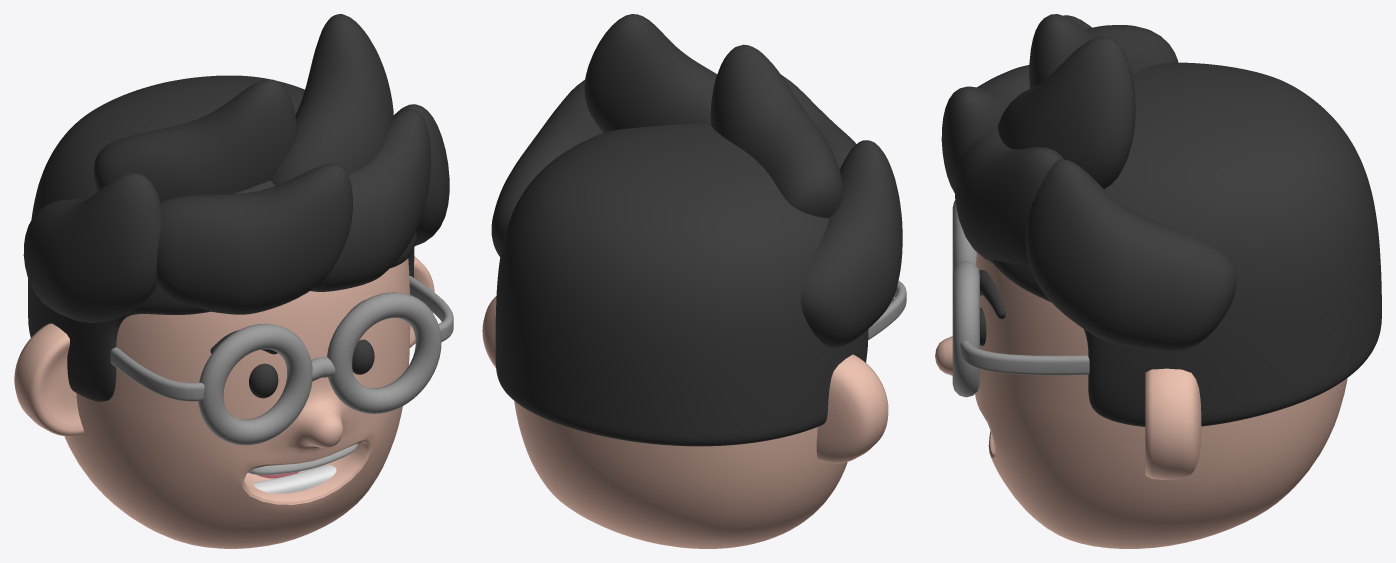
3 renders of one model, left to right at view 1: azimuth 30°, elevation 25°; view 2: azimuth 150°, elevation 25°; view 3: azimuth 270°, elevation 25°, orthographic. The views are drawn at different scales.
Parts seen in each view (by area): view 1: Hair spikes, Body, Glasses, Hair, Ears, Eyes, Cube.009, Cube.008; view 2: Hair, Hair spikes, Body, Ears, Glasses; view 3: Hair, Hair spikes, Body, Glasses, Ears, Eye Brows.
Part boxes in pixels (x1=…): Hair spikes: x1=23, y1=14, x2=449, y2=322; Body: x1=64, y1=258, x2=410, y2=548; Glasses: x1=110, y1=276, x2=453, y2=445; Hair: x1=28, y1=75, x2=416, y2=401; Ears: x1=14, y1=256, x2=434, y2=436; Eyes: x1=249, y1=339, x2=374, y2=398; Cube.009: x1=253, y1=465, x2=336, y2=493; Cube.008: x1=248, y1=443, x2=357, y2=475; Hair: x1=495, y1=124, x2=868, y2=446; Hair spikes: x1=491, y1=14, x2=902, y2=347; Body: x1=514, y1=401, x2=847, y2=548; Ears: x1=482, y1=296, x2=888, y2=463; Glasses: x1=868, y1=280, x2=906, y2=339; Hair: x1=990, y1=62, x2=1381, y2=426; Hair spikes: x1=941, y1=14, x2=1236, y2=351; Body: x1=935, y1=252, x2=1347, y2=548; Glasses: x1=952, y1=200, x2=1089, y2=397; Ears: x1=1145, y1=368, x2=1201, y2=479; Eye Brows: x1=979, y1=270, x2=1005, y2=319.
Bounding box in the file's own units: 0.3152 × 0.3709 × 0.2825.
